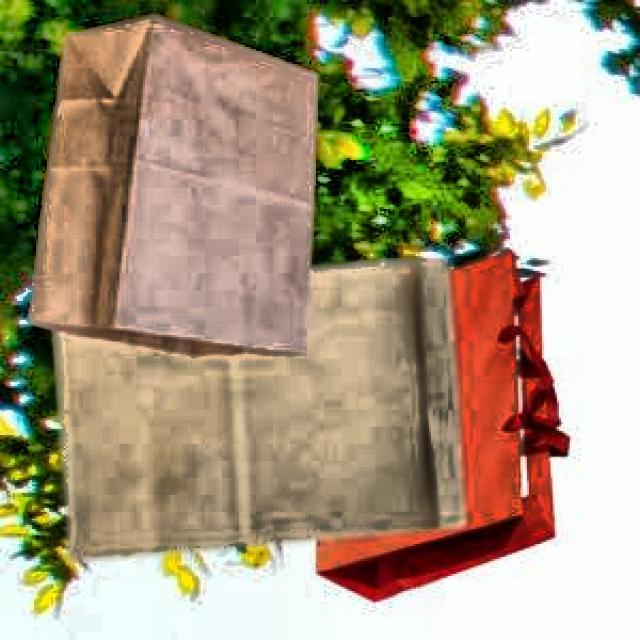Paper-bag: (16, 237, 478, 569), (41, 1, 333, 391), (330, 240, 573, 596)
